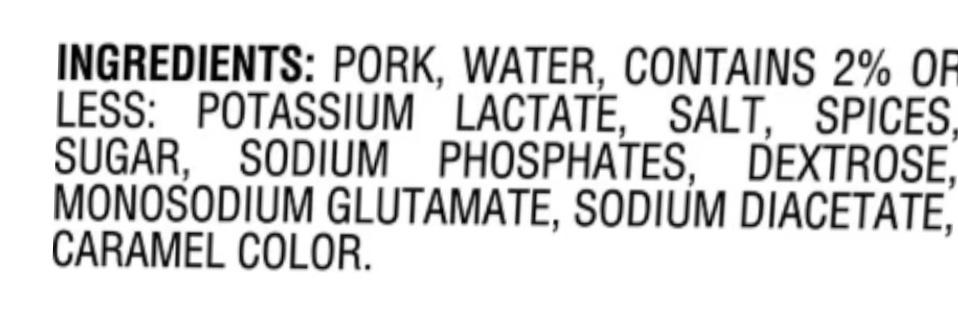ingredients: (45, 28, 958, 304)
